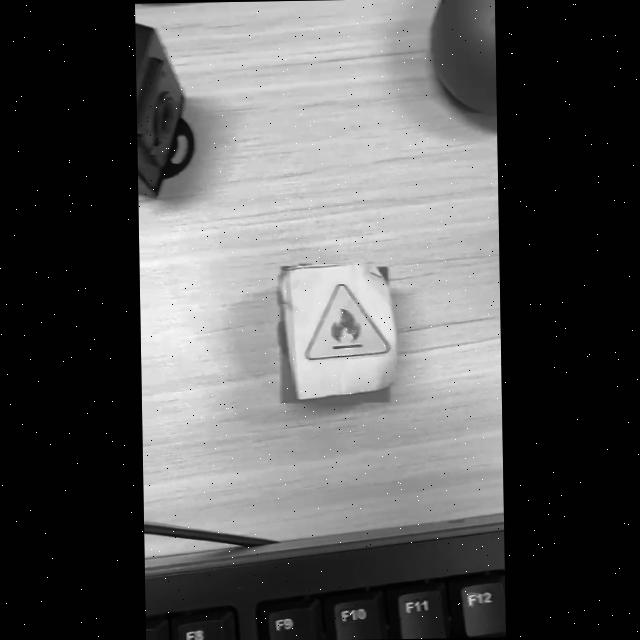Fire: (306, 283, 389, 359)
